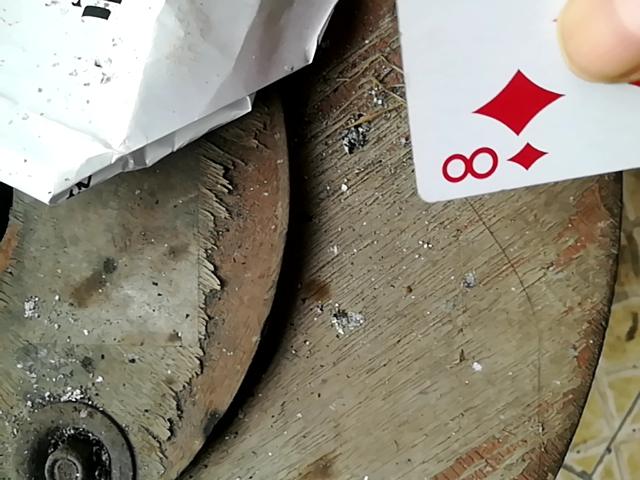fk 8: (376, 1, 640, 199)
